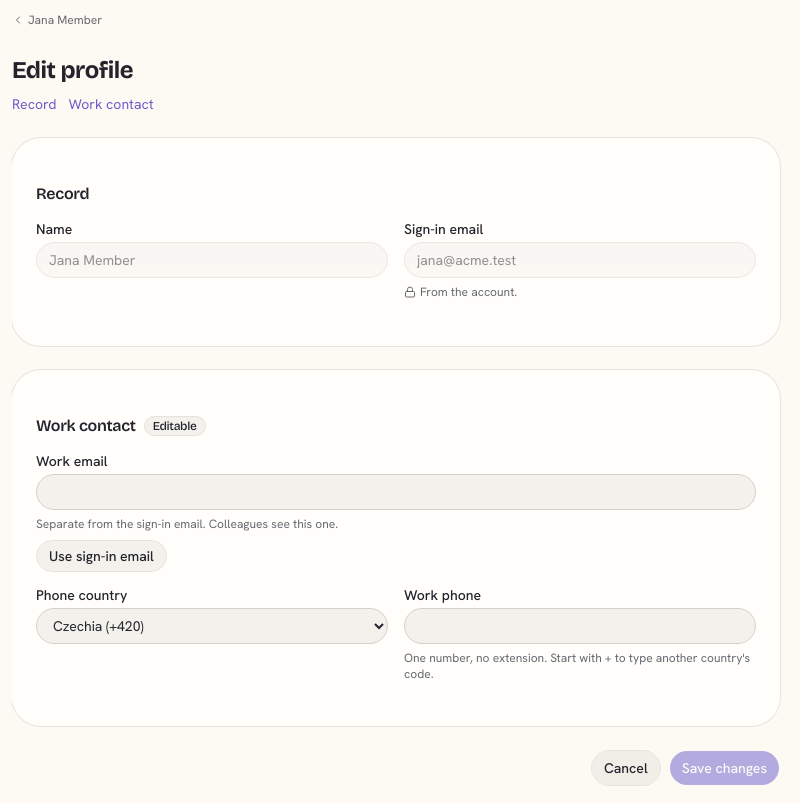
Test: ProfileEditScreen › Work contact › refuses an invalid phone number before saving
Type "601 12" into the field labelled "Work phone" at {"x": 580, "y": 626}, box [404, 608, 756, 644]
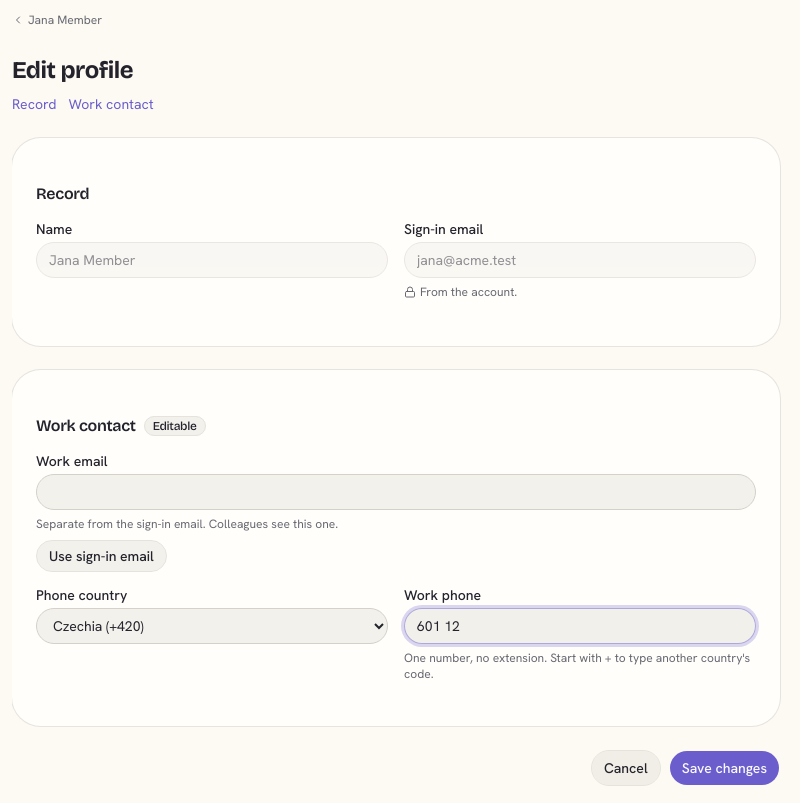
Click the button "Save changes" at {"x": 724, "y": 768}, box [669, 750, 780, 786]
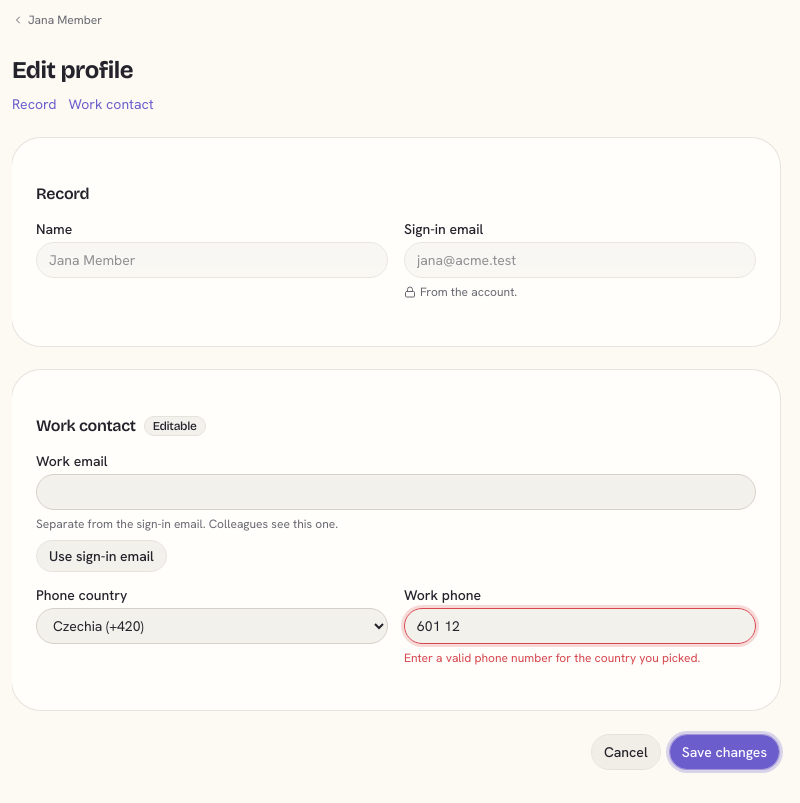
Expected: the text "Enter a valid phone number for the country you picked." is shown, [404, 650, 700, 666]
